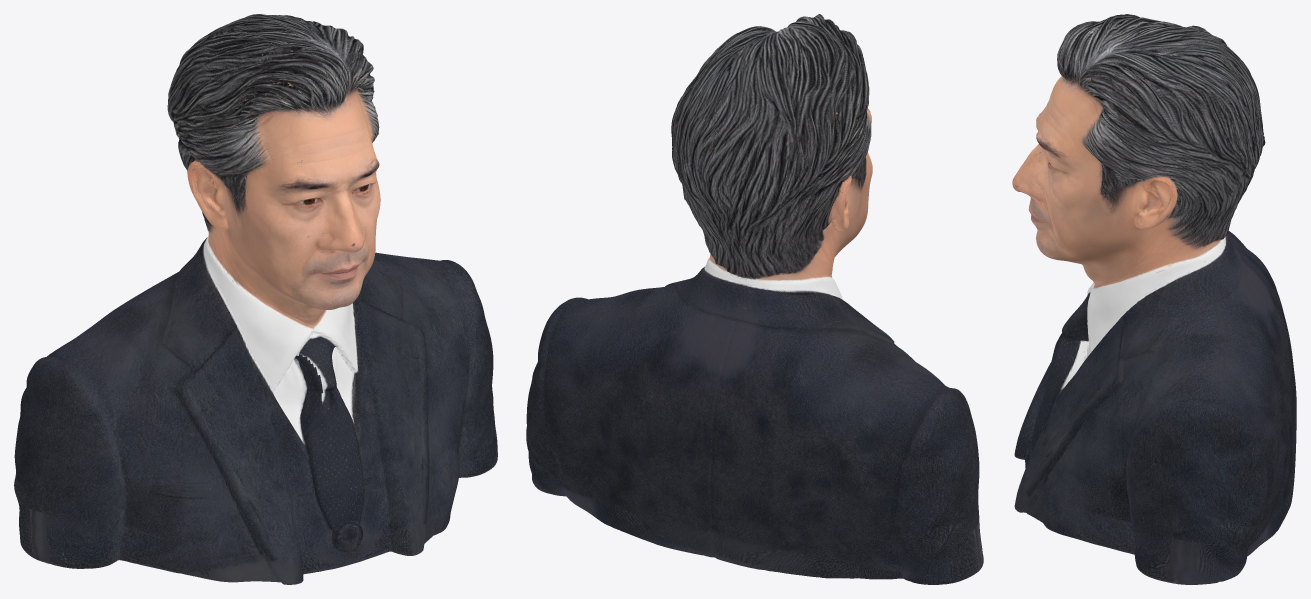
File: manager.bust.opt.glb
The picture shows the model from 3 angles, left to right: view 1: azimuth 30°, elevation 25°; view 2: azimuth 150°, elevation 25°; view 3: azimuth 270°, elevation 25°; orthographic projection. The views are drawn at different scales.
Parts seen in each view (by area): view 1: Mesh_0; view 2: Mesh_0; view 3: Mesh_0.
Boxes of the visible parts, x1,y1,x2,y2 form: Mesh_0: (14, 14, 497, 584); Mesh_0: (526, 14, 983, 584); Mesh_0: (1012, 14, 1296, 584).
Bounding box in the file's own units: 1.86 × 1.9 × 1.08.
1 material, 1 textured.
